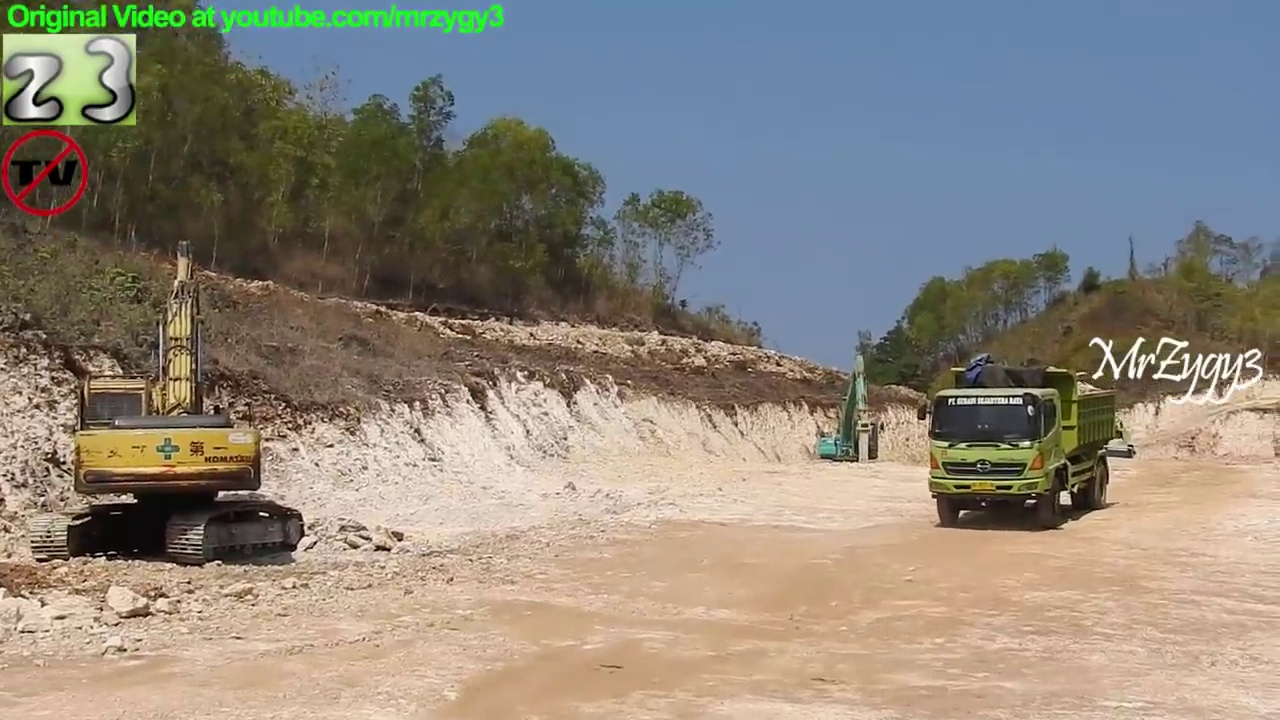excavator: (810, 350, 892, 483), (1037, 403, 1129, 472)
excavator breaker: (23, 234, 309, 571)
truck: (913, 362, 1122, 533), (1092, 440, 1141, 490)
